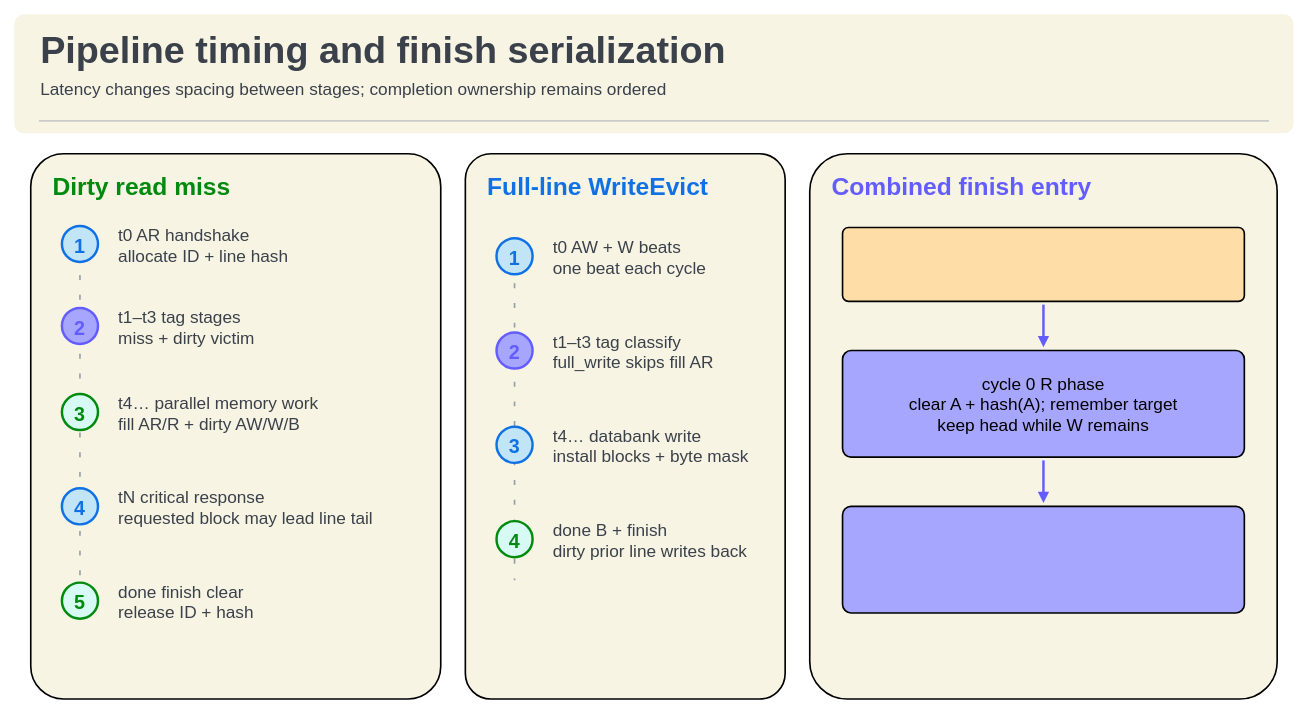
This 1307x713 diagram has some shape labels left out. The centre of each missing label's shape, as x and y in pixels:
"cycle 1 W phase clear B + hash(B) unless same target pop after all phases retire" goes at pixel 1043 559.
"finish FIFO head rvalid=1 rid=A · wvalid=1 wid=B" goes at pixel 1043 264.
